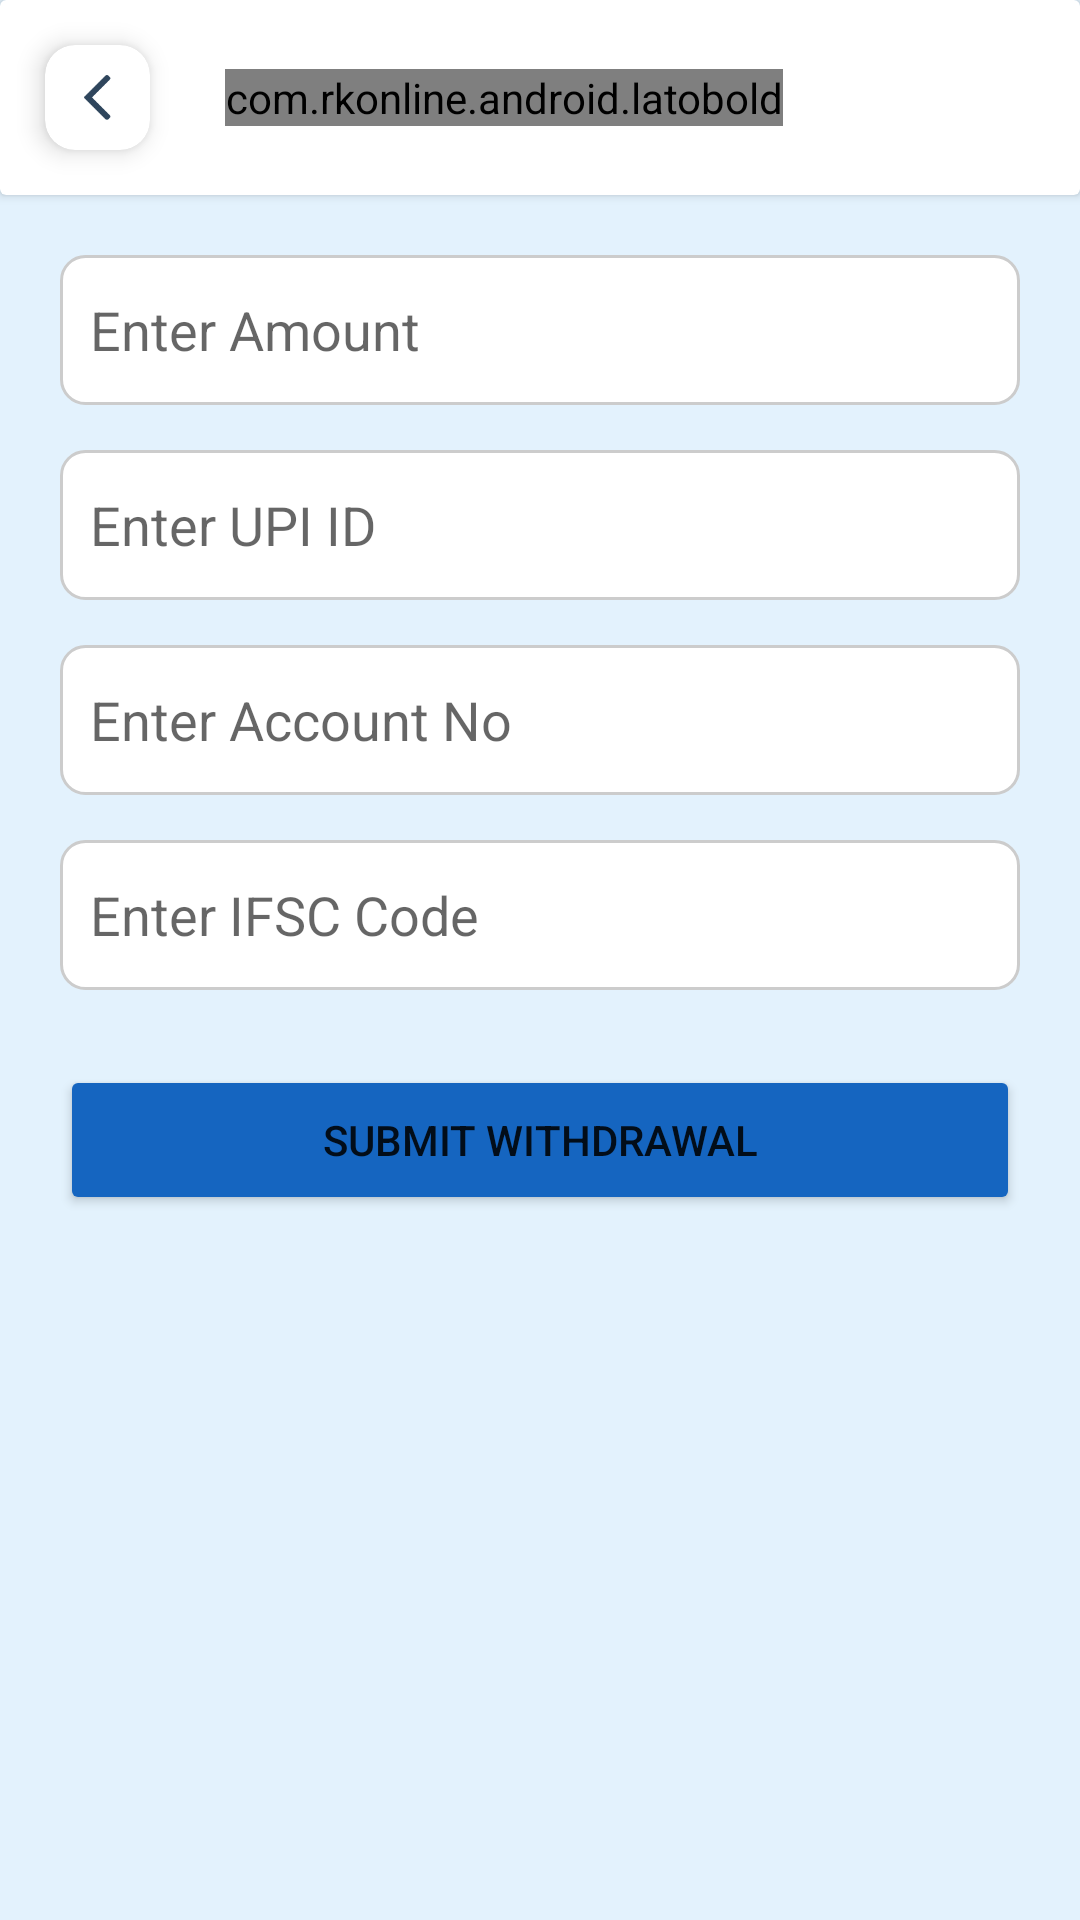

Icon bounding boxes for this 1080 x 1920 phone screenshot, format region(x1, y1, x2, y2):
back: region(84, 75, 111, 120)
